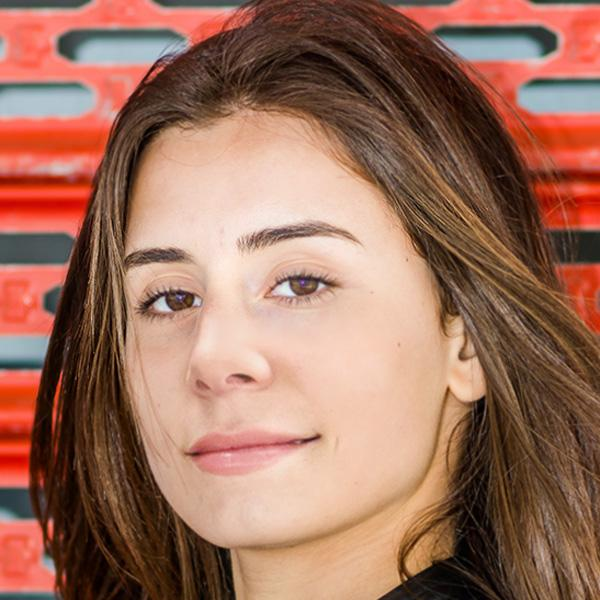Eyes: (241, 251, 359, 322), (135, 268, 212, 332)
